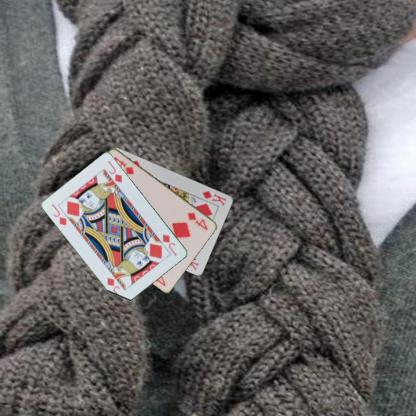4d: (185, 210, 209, 231)
Jd: (49, 201, 68, 227), (160, 232, 178, 257)
Kd: (200, 188, 228, 207)
